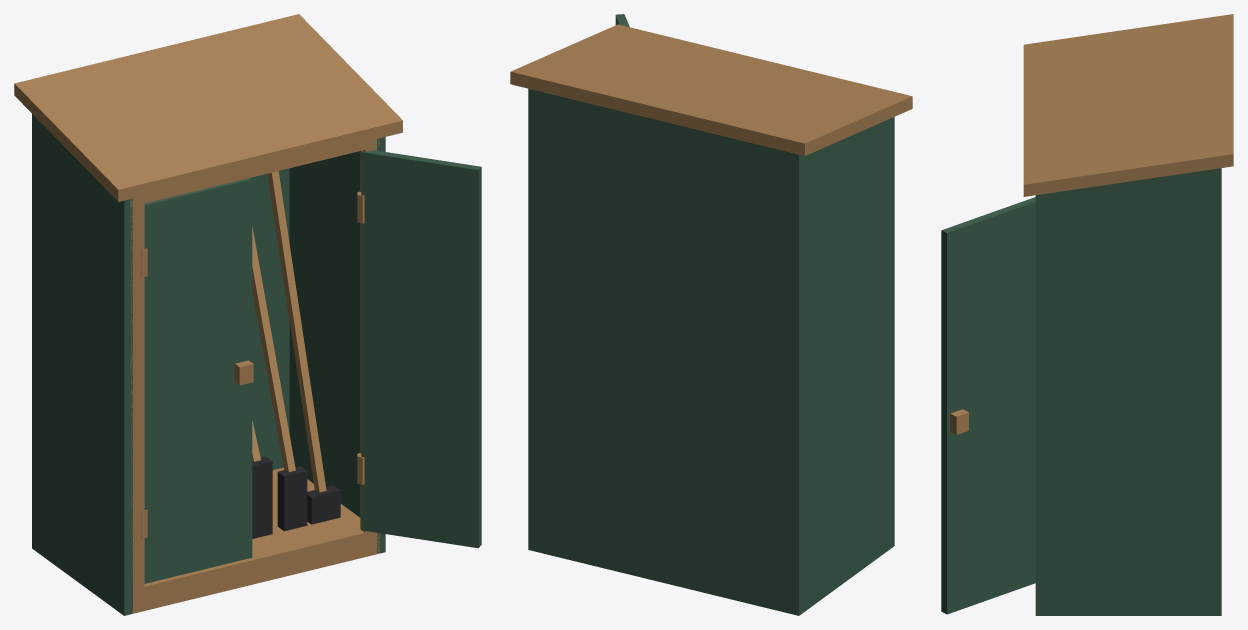
Rendered from FN_Store_Tool.obj.
3 views of the same model, side by side, from view 1: azimuth 30°, elevation 25°; view 2: azimuth 150°, elevation 25°; view 3: azimuth 270°, elevation 25° (orthographic). The views are drawn at different scales.
Parts seen in each view (by area): view 1: FN_Store_Tool; view 2: FN_Store_Tool; view 3: FN_Store_Tool.
Boxes of the visible parts, left/top/right/bottom form: FN_Store_Tool: left=14, top=14, right=481, bottom=615; FN_Store_Tool: left=510, top=14, right=912, bottom=615; FN_Store_Tool: left=941, top=14, right=1233, bottom=615.
Size of the model in its own units: 1.13 by 1.52 by 0.8633.
Materials: 1 (1 with a texture image).
